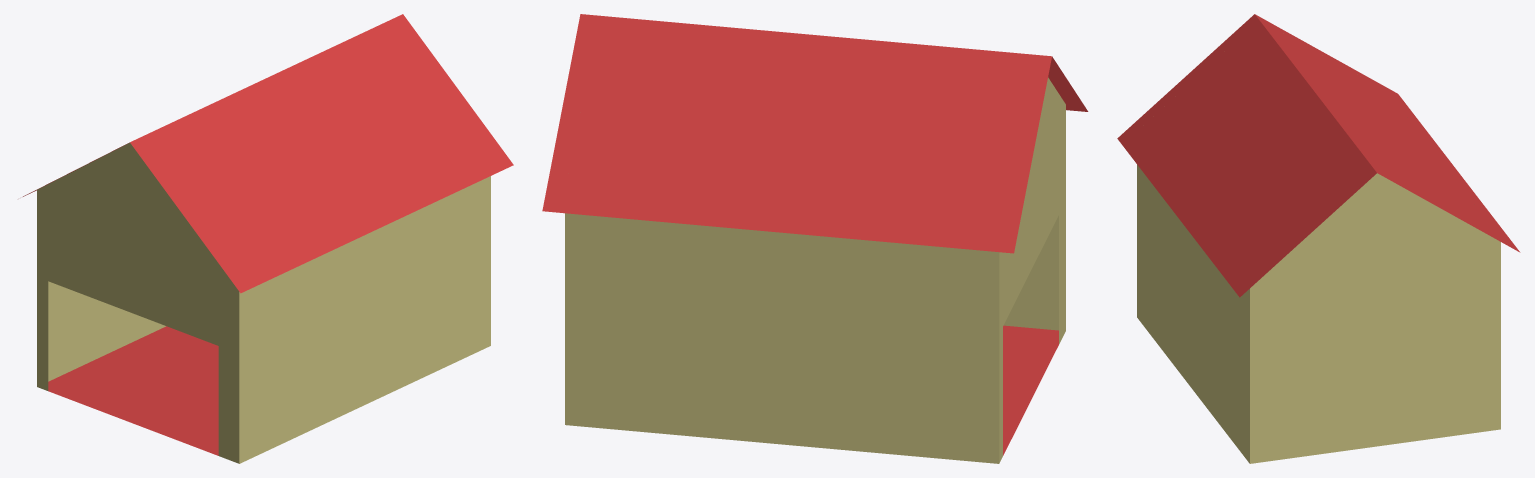
3 renders of one model, left to right at view 1: azimuth 30°, elevation 25°; view 2: azimuth 150°, elevation 25°; view 3: azimuth 270°, elevation 25°, orthographic. The views are drawn at different scales.
Bounding box in the file's own units: 22.2 × 19.14 × 14.67.
